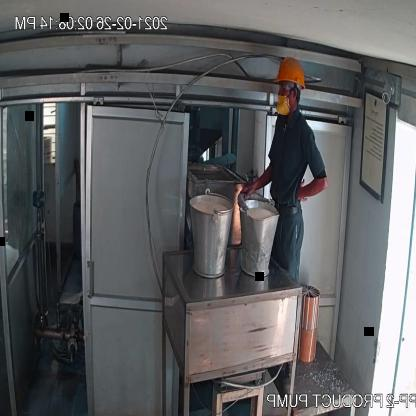helmet: (273, 54, 307, 93)
